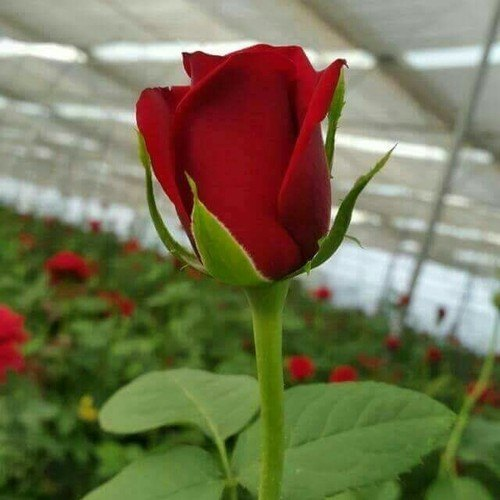rose: (113, 40, 388, 282)
